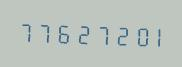one: (143, 21, 160, 49)
seven: (17, 17, 34, 45), (89, 19, 106, 47), (35, 18, 52, 45)
six: (53, 18, 70, 46)
two: (107, 20, 124, 48), (71, 19, 88, 46)
zero: (125, 21, 142, 48)
